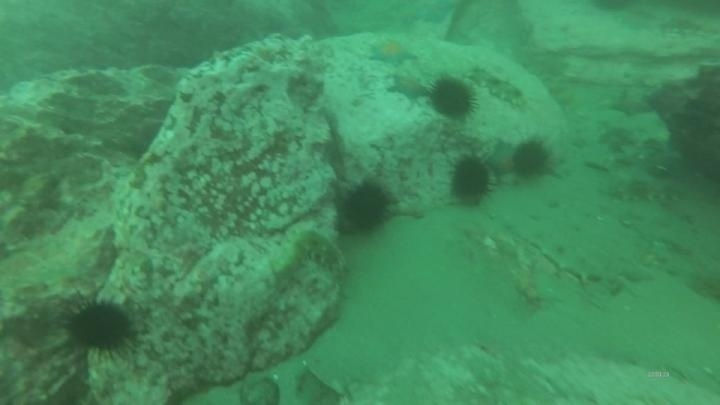echinus: (60, 292, 140, 363), (338, 178, 395, 237), (447, 153, 495, 207), (428, 75, 479, 122), (509, 137, 554, 181)
holothurian: (273, 227, 348, 284), (600, 172, 687, 208), (467, 63, 529, 111)
starfish: (367, 36, 419, 68), (484, 138, 520, 181), (607, 89, 655, 120), (386, 72, 430, 103)
